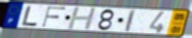4: (148, 11, 167, 35)
8: (98, 9, 115, 31)
F: (41, 6, 68, 28)
H: (66, 7, 98, 31)
I: (124, 9, 137, 33)
L: (21, 5, 40, 27)
